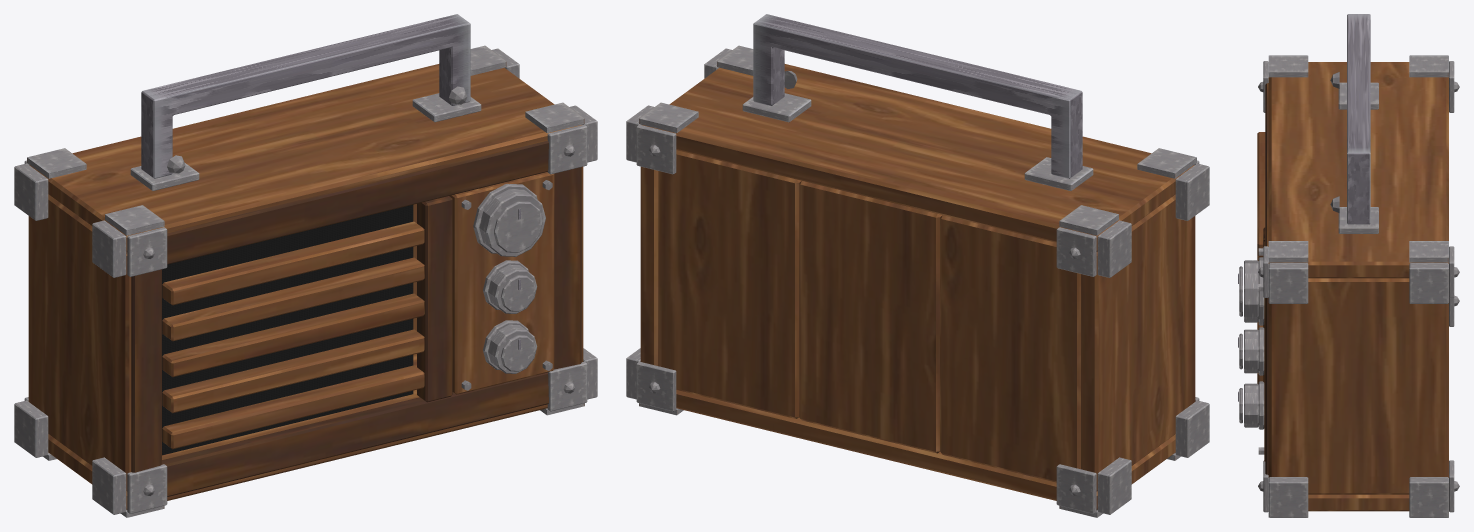
Rendered from before-joints.glb.
3 views of the same model, side by side, from view 1: azimuth 30°, elevation 25°; view 2: azimuth 150°, elevation 25°; view 3: azimuth 270°, elevation 25° (orthographic). The views are drawn at different scales.
Parts seen in each view (by area): view 1: source; view 2: source; view 3: source.
Part boxes in pixels (bbox=[...]): source: bbox=[14, 14, 597, 517]; source: bbox=[626, 14, 1209, 517]; source: bbox=[1238, 14, 1459, 517].
Size of the model in its own units: 0.55 by 0.4 by 0.2415.
3 materials, 3 textured.
